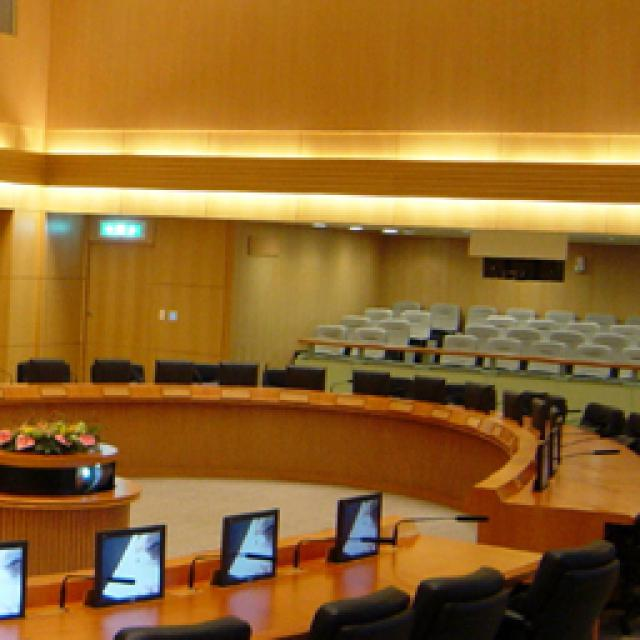bouquet: (0, 420, 115, 492)
chair: (505, 535, 618, 632), (412, 565, 500, 635), (305, 578, 408, 635), (110, 610, 250, 638), (578, 400, 618, 442), (572, 342, 610, 375), (525, 340, 562, 370), (482, 335, 515, 368), (12, 355, 58, 378), (310, 322, 342, 355), (438, 332, 475, 358), (252, 362, 288, 388), (442, 380, 468, 408), (352, 328, 380, 352), (388, 375, 410, 402), (190, 358, 210, 380), (520, 385, 550, 398)
chair seat: (622, 410, 638, 445)
conference table: (0, 378, 635, 538), (0, 512, 540, 638)
door bars: (80, 238, 152, 375)
lamp crop: (0, 180, 635, 220)
microphone: (185, 550, 275, 588), (540, 440, 618, 482), (288, 530, 390, 562), (388, 510, 485, 542), (55, 572, 135, 605)
monitor crop: (80, 522, 162, 608), (205, 508, 275, 582), (322, 490, 380, 558), (0, 538, 22, 618), (282, 358, 322, 392), (528, 435, 548, 488), (155, 355, 190, 385), (215, 360, 260, 382), (408, 372, 440, 402), (90, 355, 128, 380), (350, 370, 388, 392), (462, 378, 488, 410), (498, 390, 520, 418)
row of chairs: (338, 310, 632, 348), (388, 295, 635, 320)
wall outlets: (155, 305, 165, 318)
